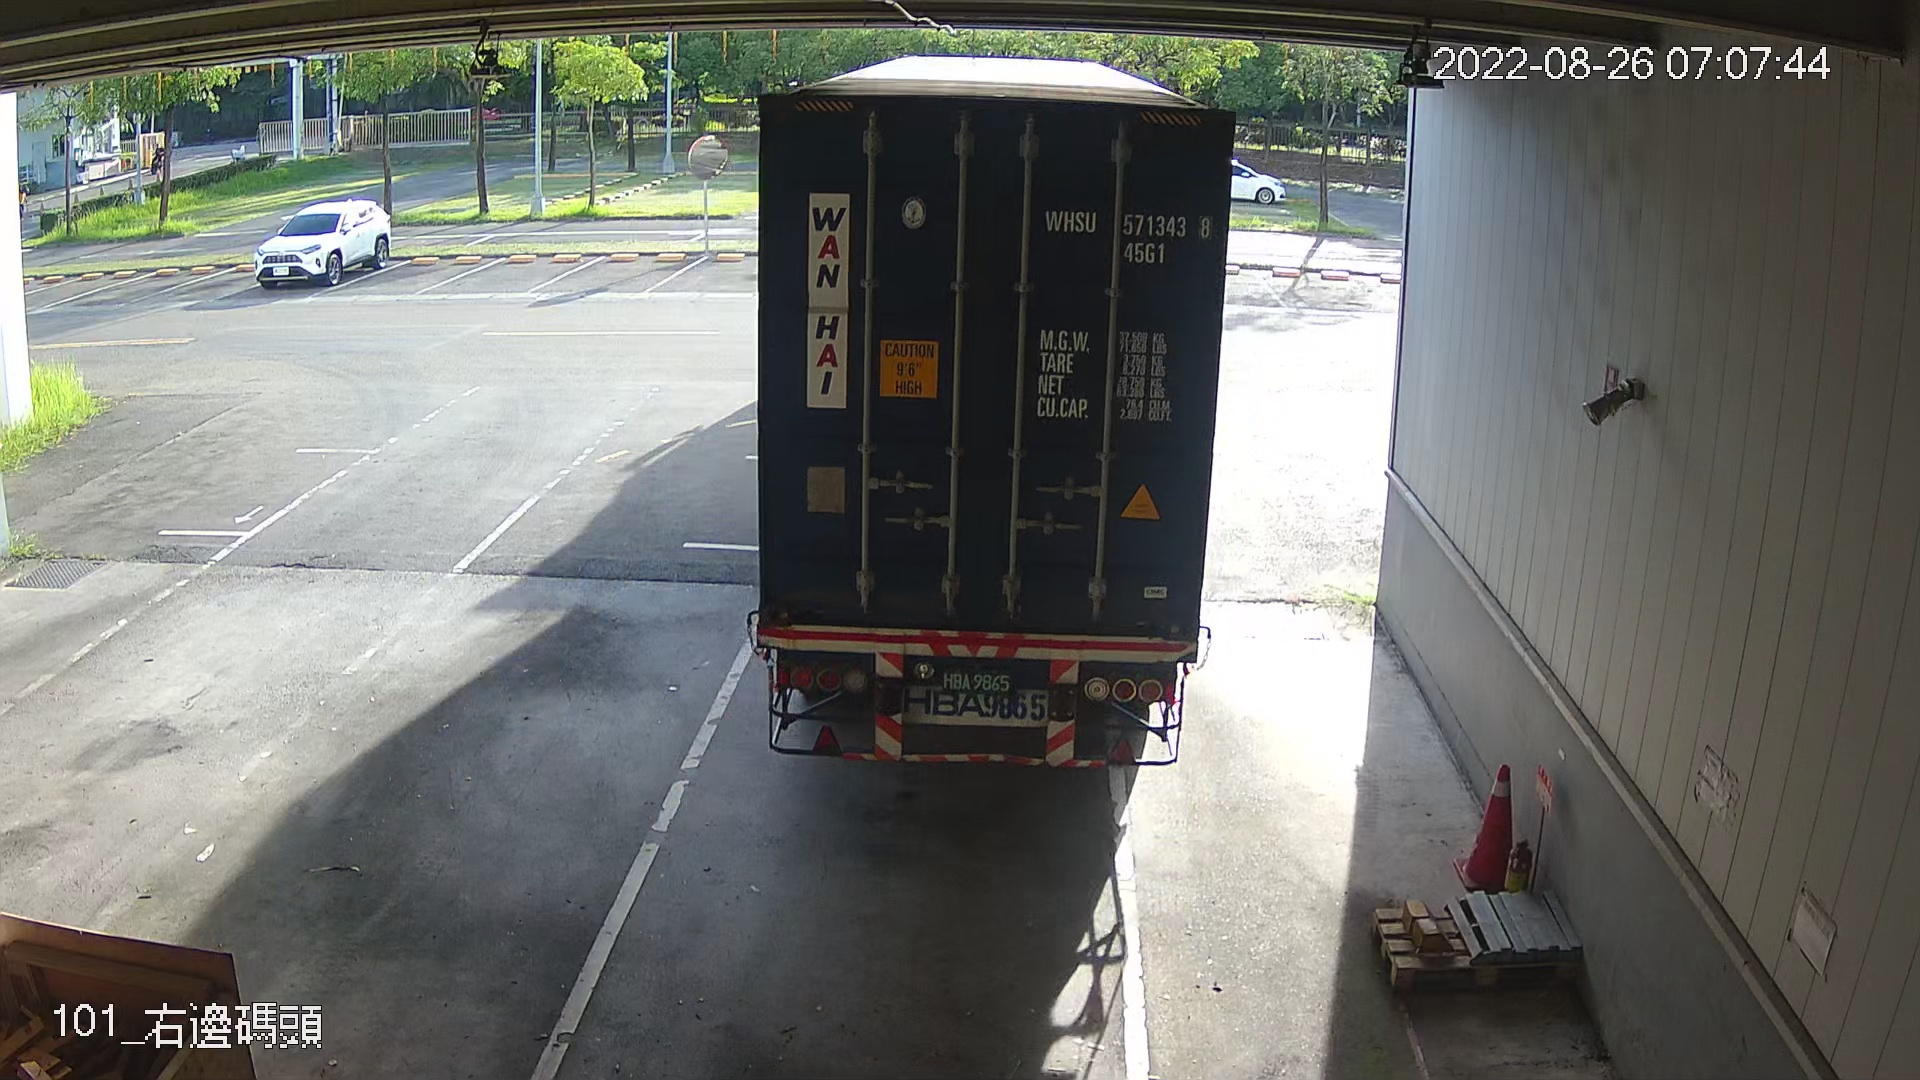container: (1034, 196, 1220, 274)
